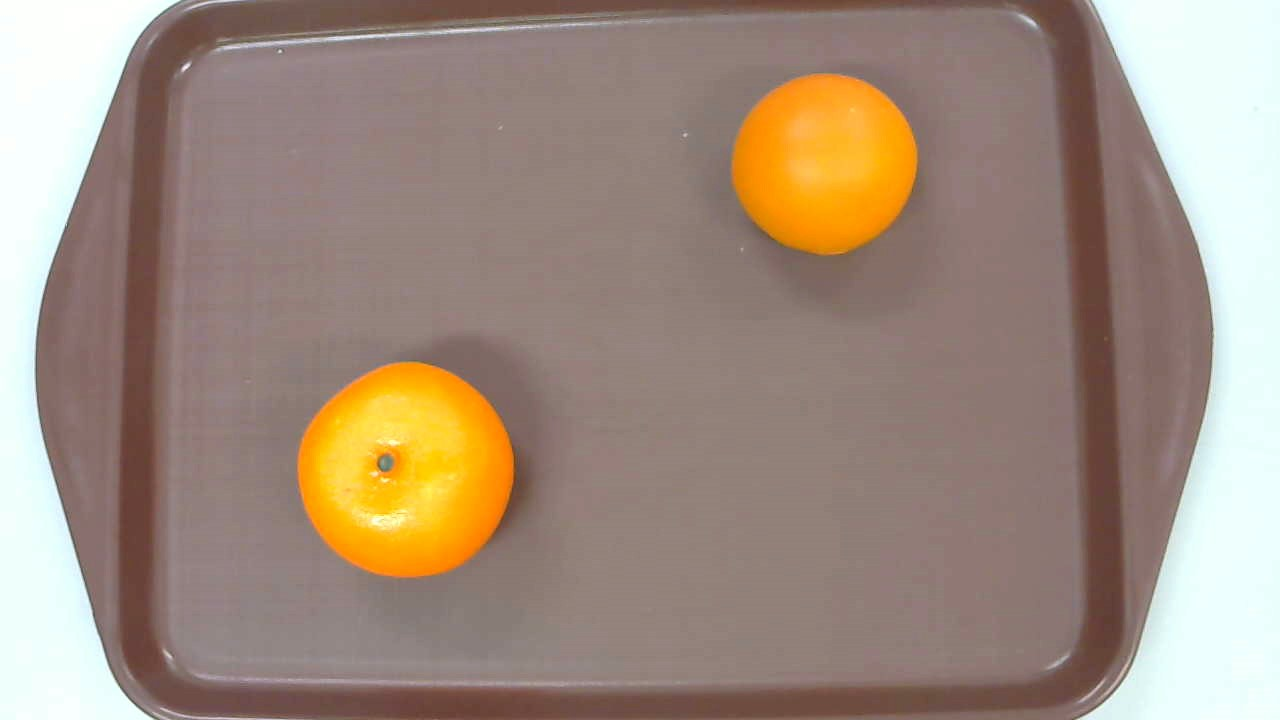bun: (730, 73, 918, 255)
orange: (297, 362, 514, 578)
